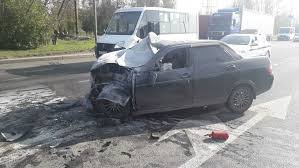car: (88, 36, 277, 114)
